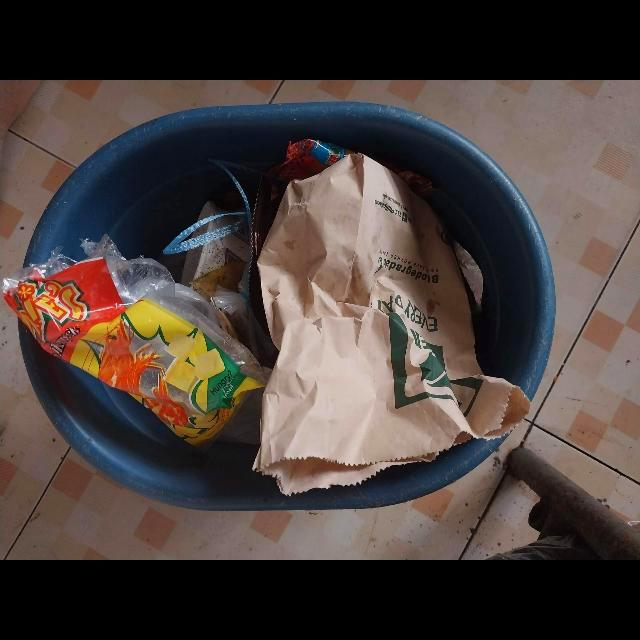food_wrapper: (3, 234, 272, 451), (264, 138, 355, 184)
paper: (251, 154, 530, 496)
